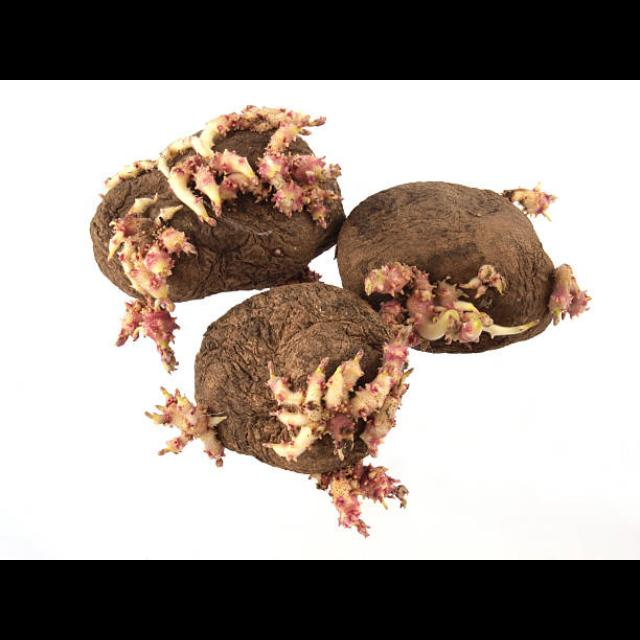Sprouted potato: (158, 268, 414, 526), (316, 150, 578, 358), (81, 112, 341, 300)
